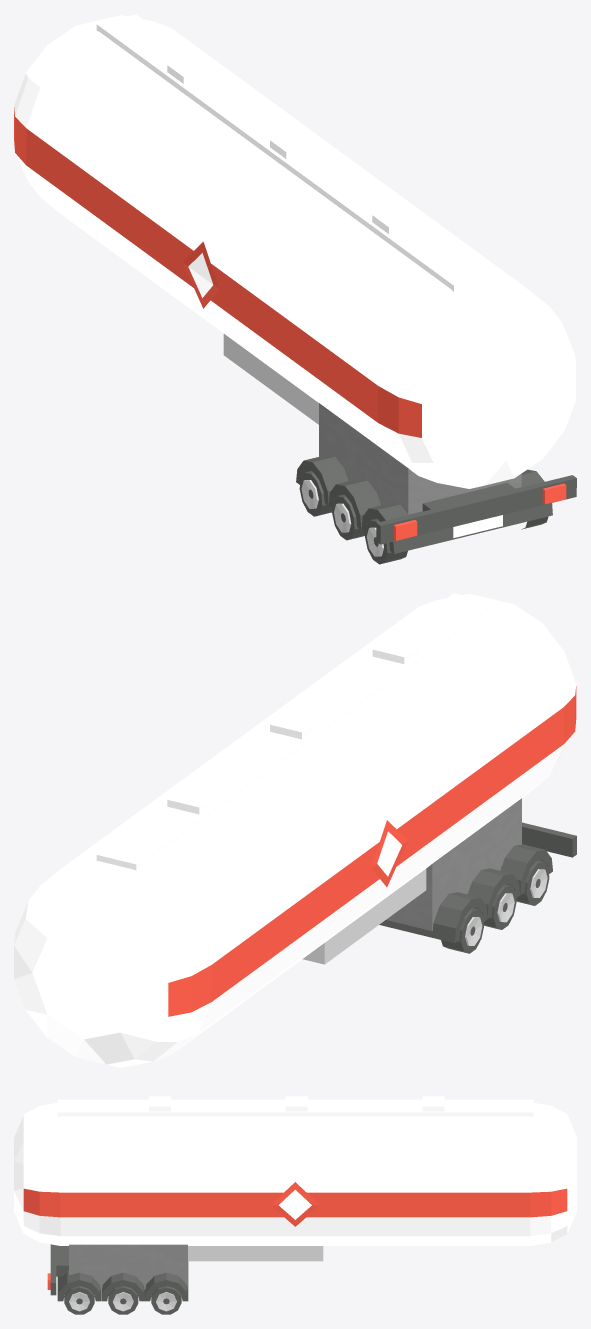
The model's file is transport_truck.011.glb.
3 views of the same model, one above another, from view 1: azimuth 30°, elevation 25°; view 2: azimuth 150°, elevation 25°; view 3: azimuth 270°, elevation 25° (orthographic). The views are drawn at different scales.
Visible parts, largest first — view 1: transport_truck.011(Clone); view 2: transport_truck.011(Clone); view 3: transport_truck.011(Clone).
Part boxes in pixels (<box>): transport_truck.011(Clone): <box>14,14,576,564</box>; transport_truck.011(Clone): <box>14,593,576,1067</box>; transport_truck.011(Clone): <box>14,1096,576,1314</box>.
Bounding box in the file's own units: 1.86 × 2.54 × 6.94.
1 material, 1 textured.
